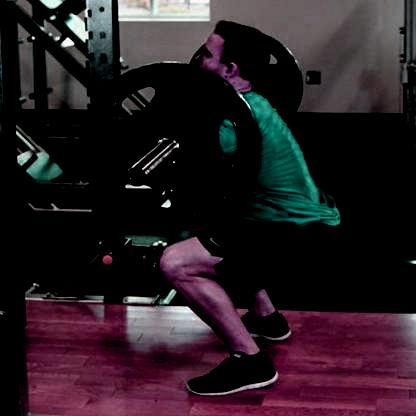Barbell: (125, 167, 150, 187)
